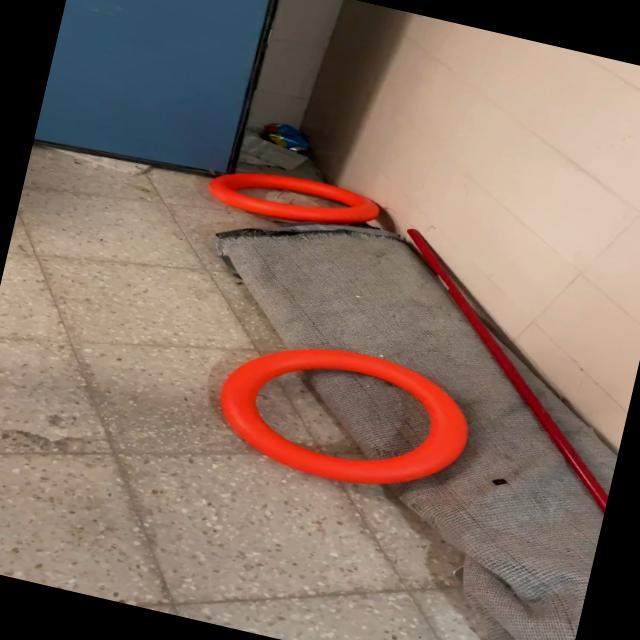note: (203, 322, 483, 510), (200, 156, 386, 244)
